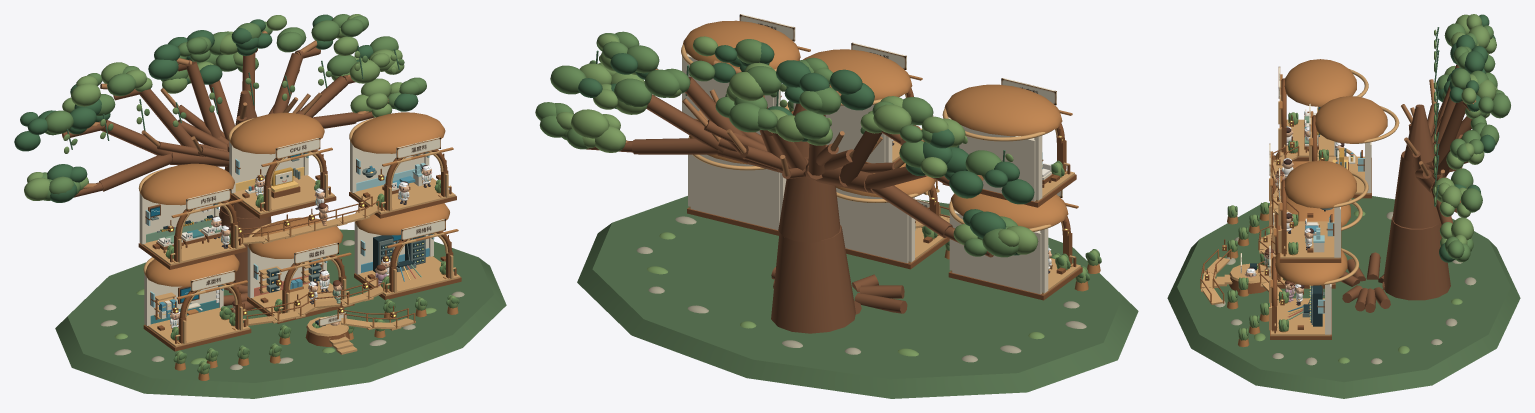
3 views of the same model, side by side, from view 1: azimuth 30°, elevation 25°; view 2: azimuth 150°, elevation 25°; view 3: azimuth 270°, elevation 25° (orthographic). The views are drawn at different scales.
Visible parts, largest first — view 1: Forest Hospital, memory clinic, cpu clinic, temperature clinic, desktop clinic, network clinic, disk clinic, platform (×5), sign-桌面科, sign-CPU 科, sign-磁盘科, sign-内存科 (+2 smaller); view 2: Forest Hospital, memory clinic, desktop clinic, disk clinic, network clinic, cpu clinic, temperature clinic, platform (×3); view 3: Forest Hospital, temperature clinic, network clinic, cpu clinic, memory clinic, disk clinic, desktop clinic, platform.
Boxes of the visible parts, <box> form: Forest Hospital: <box>14,14,506,398</box>; memory clinic: <box>138,163,245,265</box>; cpu clinic: <box>228,112,334,214</box>; temperature clinic: <box>349,112,455,214</box>; desktop clinic: <box>143,254,249,347</box>; network clinic: <box>354,203,460,295</box>; disk clinic: <box>247,217,351,315</box>; platform (×5): <box>138,191,461,351</box>; sign-桌面科: <box>190,270,235,292</box>; sign-CPU 科: <box>275,137,320,159</box>; sign-磁盘科: <box>294,242,338,264</box>; sign-内存科: <box>186,188,230,210</box>; Forest Hospital: <box>535,31,1138,398</box>; memory clinic: <box>942,84,1074,201</box>; desktop clinic: <box>948,193,1080,294</box>; disk clinic: <box>835,163,944,263</box>; network clinic: <box>688,135,786,230</box>; cpu clinic: <box>793,49,923,163</box>; temperature clinic: <box>681,20,810,134</box>; platform (×3): <box>687,207,1082,300</box>; Forest Hospital: <box>1167,14,1520,398</box>; temperature clinic: <box>1278,160,1368,258</box>; network clinic: <box>1269,248,1359,335</box>; cpu clinic: <box>1309,96,1399,194</box>; memory clinic: <box>1278,59,1368,157</box>; disk clinic: <box>1272,196,1362,284</box>; desktop clinic: <box>1269,147,1356,233</box>; platform: <box>1279,222,1341,262</box>.
Size of the model in its own units: 32.8 by 18.35 by 24.27.
53 materials, 7 textured.
